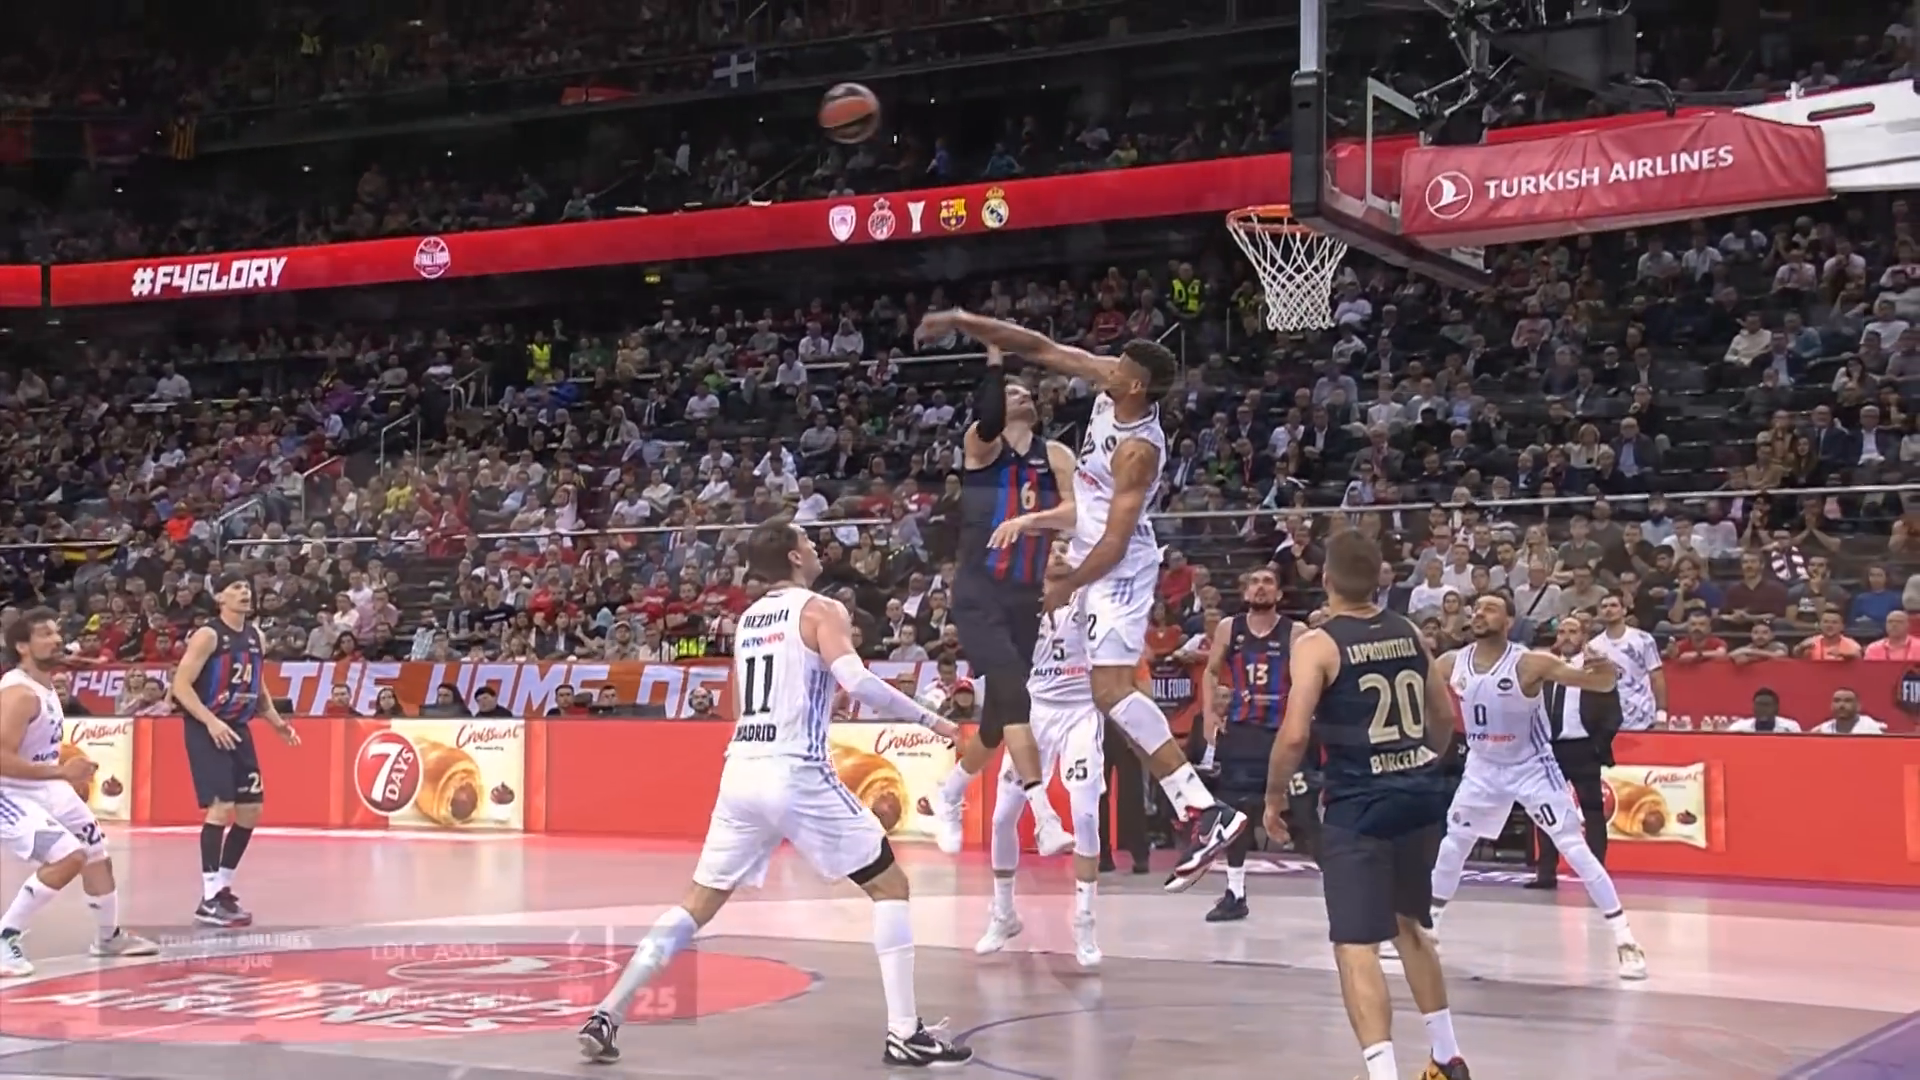ball: (815, 80, 885, 148)
net: (1222, 202, 1349, 334)
